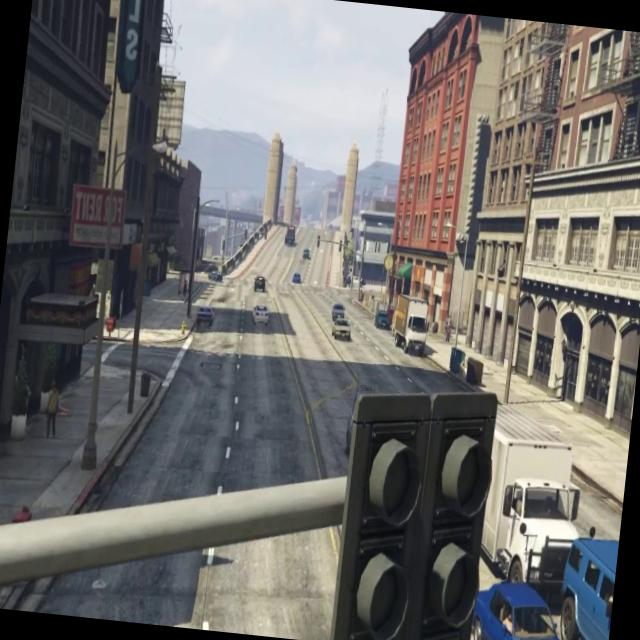Green-Signal: (323, 371, 508, 640)
